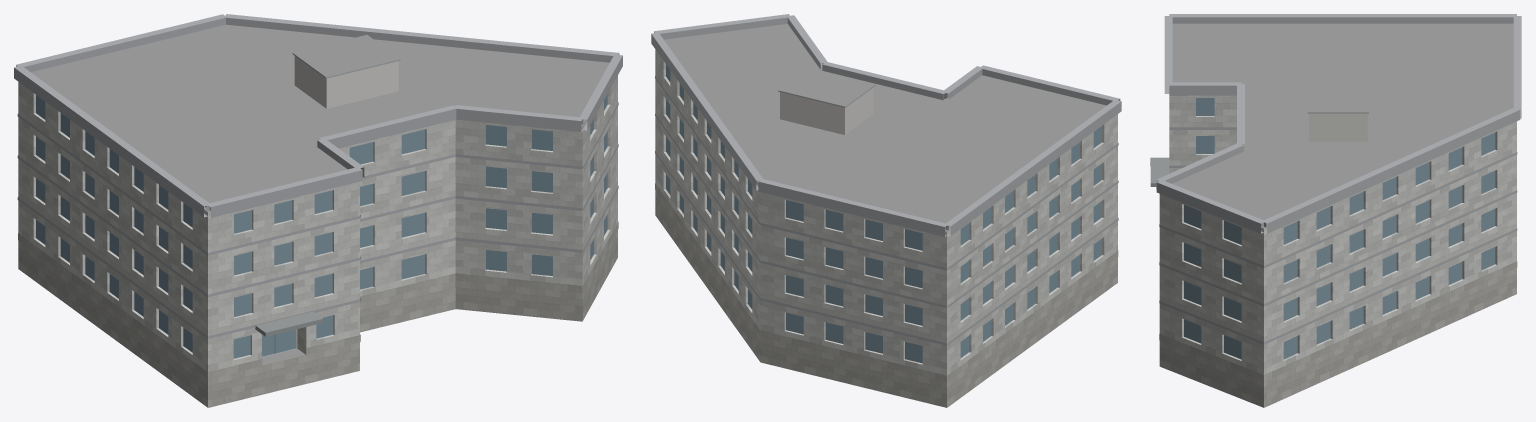
The picture shows the model from 3 angles, left to right: view 1: azimuth 30°, elevation 25°; view 2: azimuth 150°, elevation 25°; view 3: azimuth 270°, elevation 25°; orthographic projection. The views are drawn at different scales.
Parts seen in each view (by area): view 1: lotteRndW1__wall, lotteRndW1__roof, lotteRndW1__trim, lotteRndW1__base, lotteRndW1__glass, lotteRndW1__wall2, lotteRndW1__canopy; view 2: lotteRndW1__wall, lotteRndW1__roof, lotteRndW1__trim, lotteRndW1__base, lotteRndW1__glass, lotteRndW1__wall2; view 3: lotteRndW1__roof, lotteRndW1__wall, lotteRndW1__trim, lotteRndW1__base, lotteRndW1__glass, lotteRndW1__wall2, lotteRndW1__canopy.
Part boxes in pixels (x1=…): lotteRndW1__wall: x1=18, y1=75, x2=617, y2=378; lotteRndW1__roof: x1=31, y1=24, x2=609, y2=365; lotteRndW1__trim: x1=14, y1=14, x2=622, y2=338; lotteRndW1__base: x1=18, y1=221, x2=618, y2=407; lotteRndW1__glass: x1=36, y1=94, x2=607, y2=358; lotteRndW1__wall2: x1=294, y1=56, x2=398, y2=108; lotteRndW1__canopy: x1=255, y1=311, x2=322, y2=336; lotteRndW1__wall: x1=655, y1=49, x2=1117, y2=381; lotteRndW1__roof: x1=664, y1=24, x2=1106, y2=231; lotteRndW1__trim: x1=651, y1=14, x2=1121, y2=345; lotteRndW1__base: x1=655, y1=183, x2=1118, y2=407; lotteRndW1__glass: x1=666, y1=64, x2=1101, y2=363; lotteRndW1__wall2: x1=780, y1=87, x2=873, y2=134; lotteRndW1__roof: x1=1172, y1=23, x2=1513, y2=228; lotteRndW1__wall: x1=1159, y1=95, x2=1516, y2=380; lotteRndW1__trim: x1=1156, y1=14, x2=1521, y2=344; lotteRndW1__base: x1=1159, y1=261, x2=1517, y2=407; lotteRndW1__glass: x1=1184, y1=98, x2=1495, y2=359; lotteRndW1__wall2: x1=1309, y1=113, x2=1367, y2=141; lotteRndW1__canopy: x1=1150, y1=157, x2=1169, y2=186.
Bounding box in the file's own units: 42.41 × 19.7 × 31.7.
9 materials, 2 textured.
